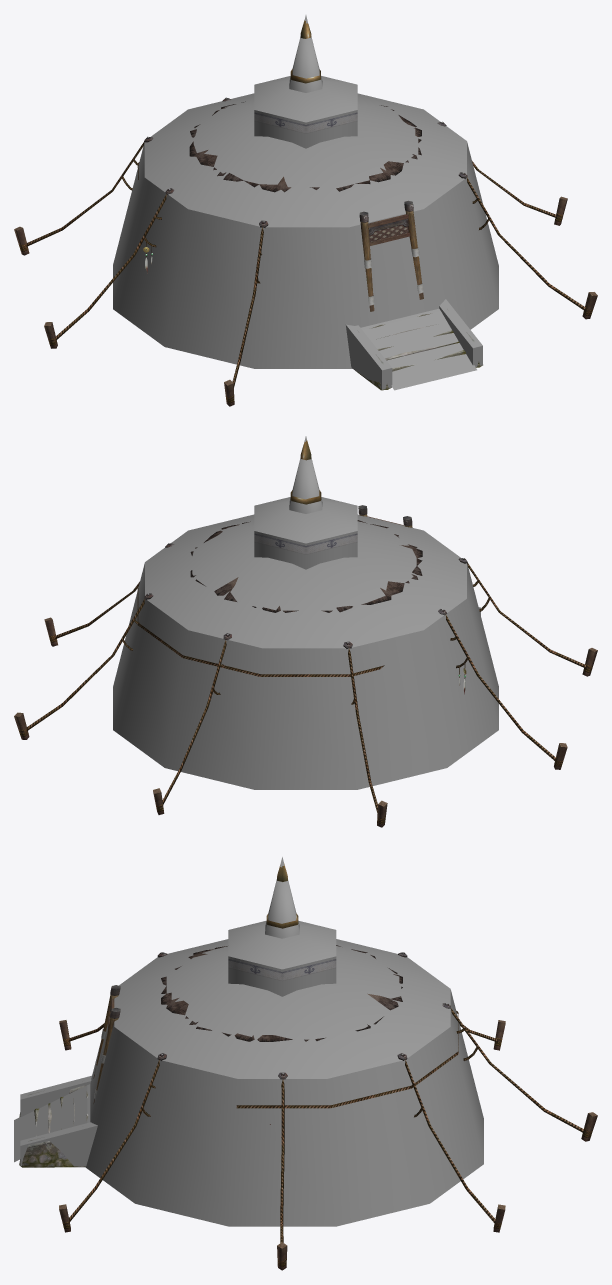
Rendered from Scene_Build_XuanWuShan_MengGuBao_1.FBX.
3 renders of one model, top to bottom at view 1: azimuth 30°, elevation 25°; view 2: azimuth 150°, elevation 25°; view 3: azimuth 270°, elevation 25°, orthographic. The views are drawn at different scales.
Parts seen in each view (by area): view 1: Scene_Build_XuanWuShan_MengGuBao_1_Xzm, Scene_Build_XuanWuShan_MengGuBao_1a; view 2: Scene_Build_XuanWuShan_MengGuBao_1_Xzm, Scene_Build_XuanWuShan_MengGuBao_1a; view 3: Scene_Build_XuanWuShan_MengGuBao_1_Xzm, Scene_Build_XuanWuShan_MengGuBao_1a.
Boxes of the visible parts, x1,y1,x2,y2 form: Scene_Build_XuanWuShan_MengGuBao_1_Xzm: [113, 15, 498, 390]; Scene_Build_XuanWuShan_MengGuBao_1a: [14, 20, 597, 406]; Scene_Build_XuanWuShan_MengGuBao_1_Xzm: [113, 436, 498, 789]; Scene_Build_XuanWuShan_MengGuBao_1a: [14, 440, 597, 827]; Scene_Build_XuanWuShan_MengGuBao_1_Xzm: [14, 857, 483, 1226]; Scene_Build_XuanWuShan_MengGuBao_1a: [19, 863, 597, 1270].
Bounding box in the file's own units: 2142 × 1068 × 1982.
